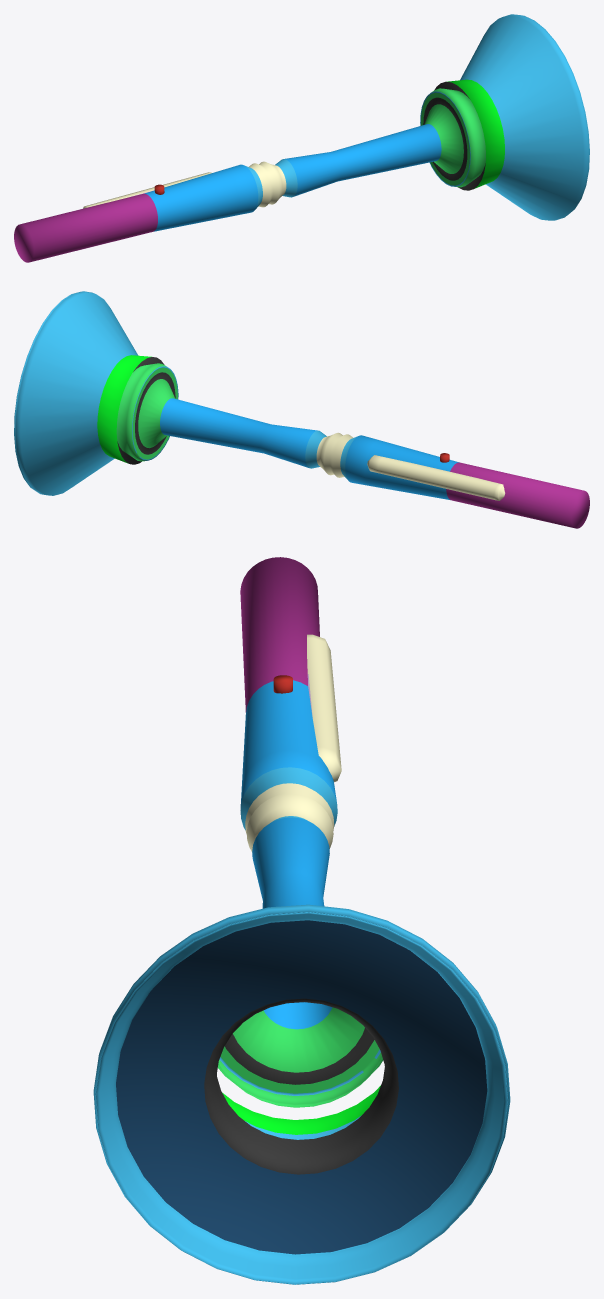
The model's file is VacPac_Colored_modle.fbx.
3 renders of one model, top to bottom at view 1: azimuth 30°, elevation 25°; view 2: azimuth 150°, elevation 25°; view 3: azimuth 270°, elevation 25°, orthographic. The views are drawn at different scales.
Visible parts, largest first — view 1: Cylinder.001, Cube; view 2: Cylinder.001, Cube; view 3: Cylinder.001, Cube.
Part boxes in pixels (<box>): Cylinder.001: <box>14,14,589,262</box>; Cube: <box>83,172,211,208</box>; Cylinder.001: <box>14,291,589,528</box>; Cube: <box>367,455,505,500</box>; Cylinder.001: <box>93,557,510,1284</box>; Cube: <box>307,634,341,782</box>.
Bounding box in the file's own units: 1471 × 518 × 518.
